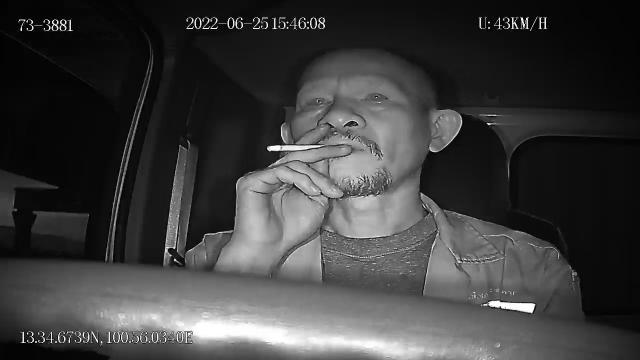SafeDriving: (297, 87, 335, 118), (358, 84, 397, 110)
Smoking: (267, 143, 325, 151)
